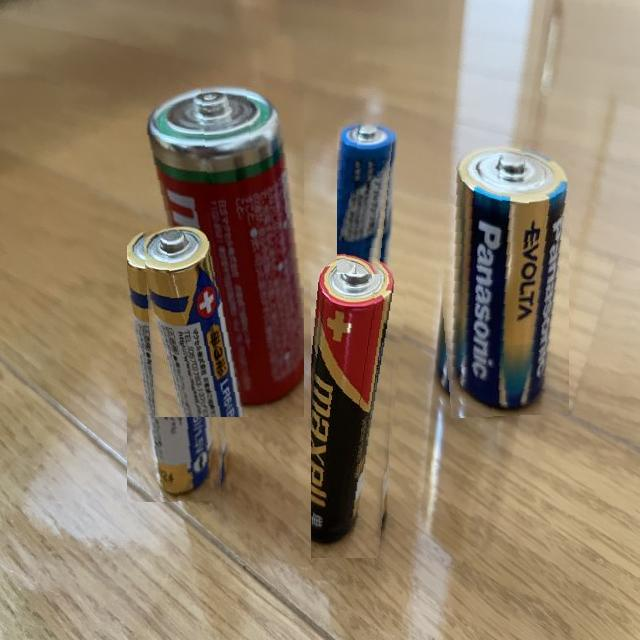battery: (133, 82, 304, 417), (430, 140, 570, 418), (128, 220, 238, 503), (311, 250, 412, 558), (338, 116, 396, 274)
